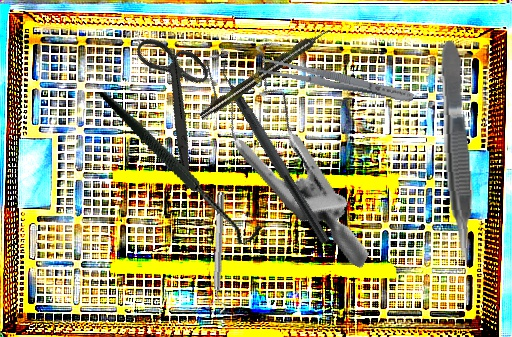Chopper: (207, 49, 343, 245)
Dressing Forceps: (258, 55, 416, 107)
Fixation Ring: (206, 191, 232, 314)
Handpiece: (197, 23, 334, 123)
Hook Surgical: (99, 59, 265, 271)
Iris Scissors: (94, 20, 260, 190)
Speculum: (154, 18, 436, 269)
Tissue Forceps: (438, 39, 478, 266)
